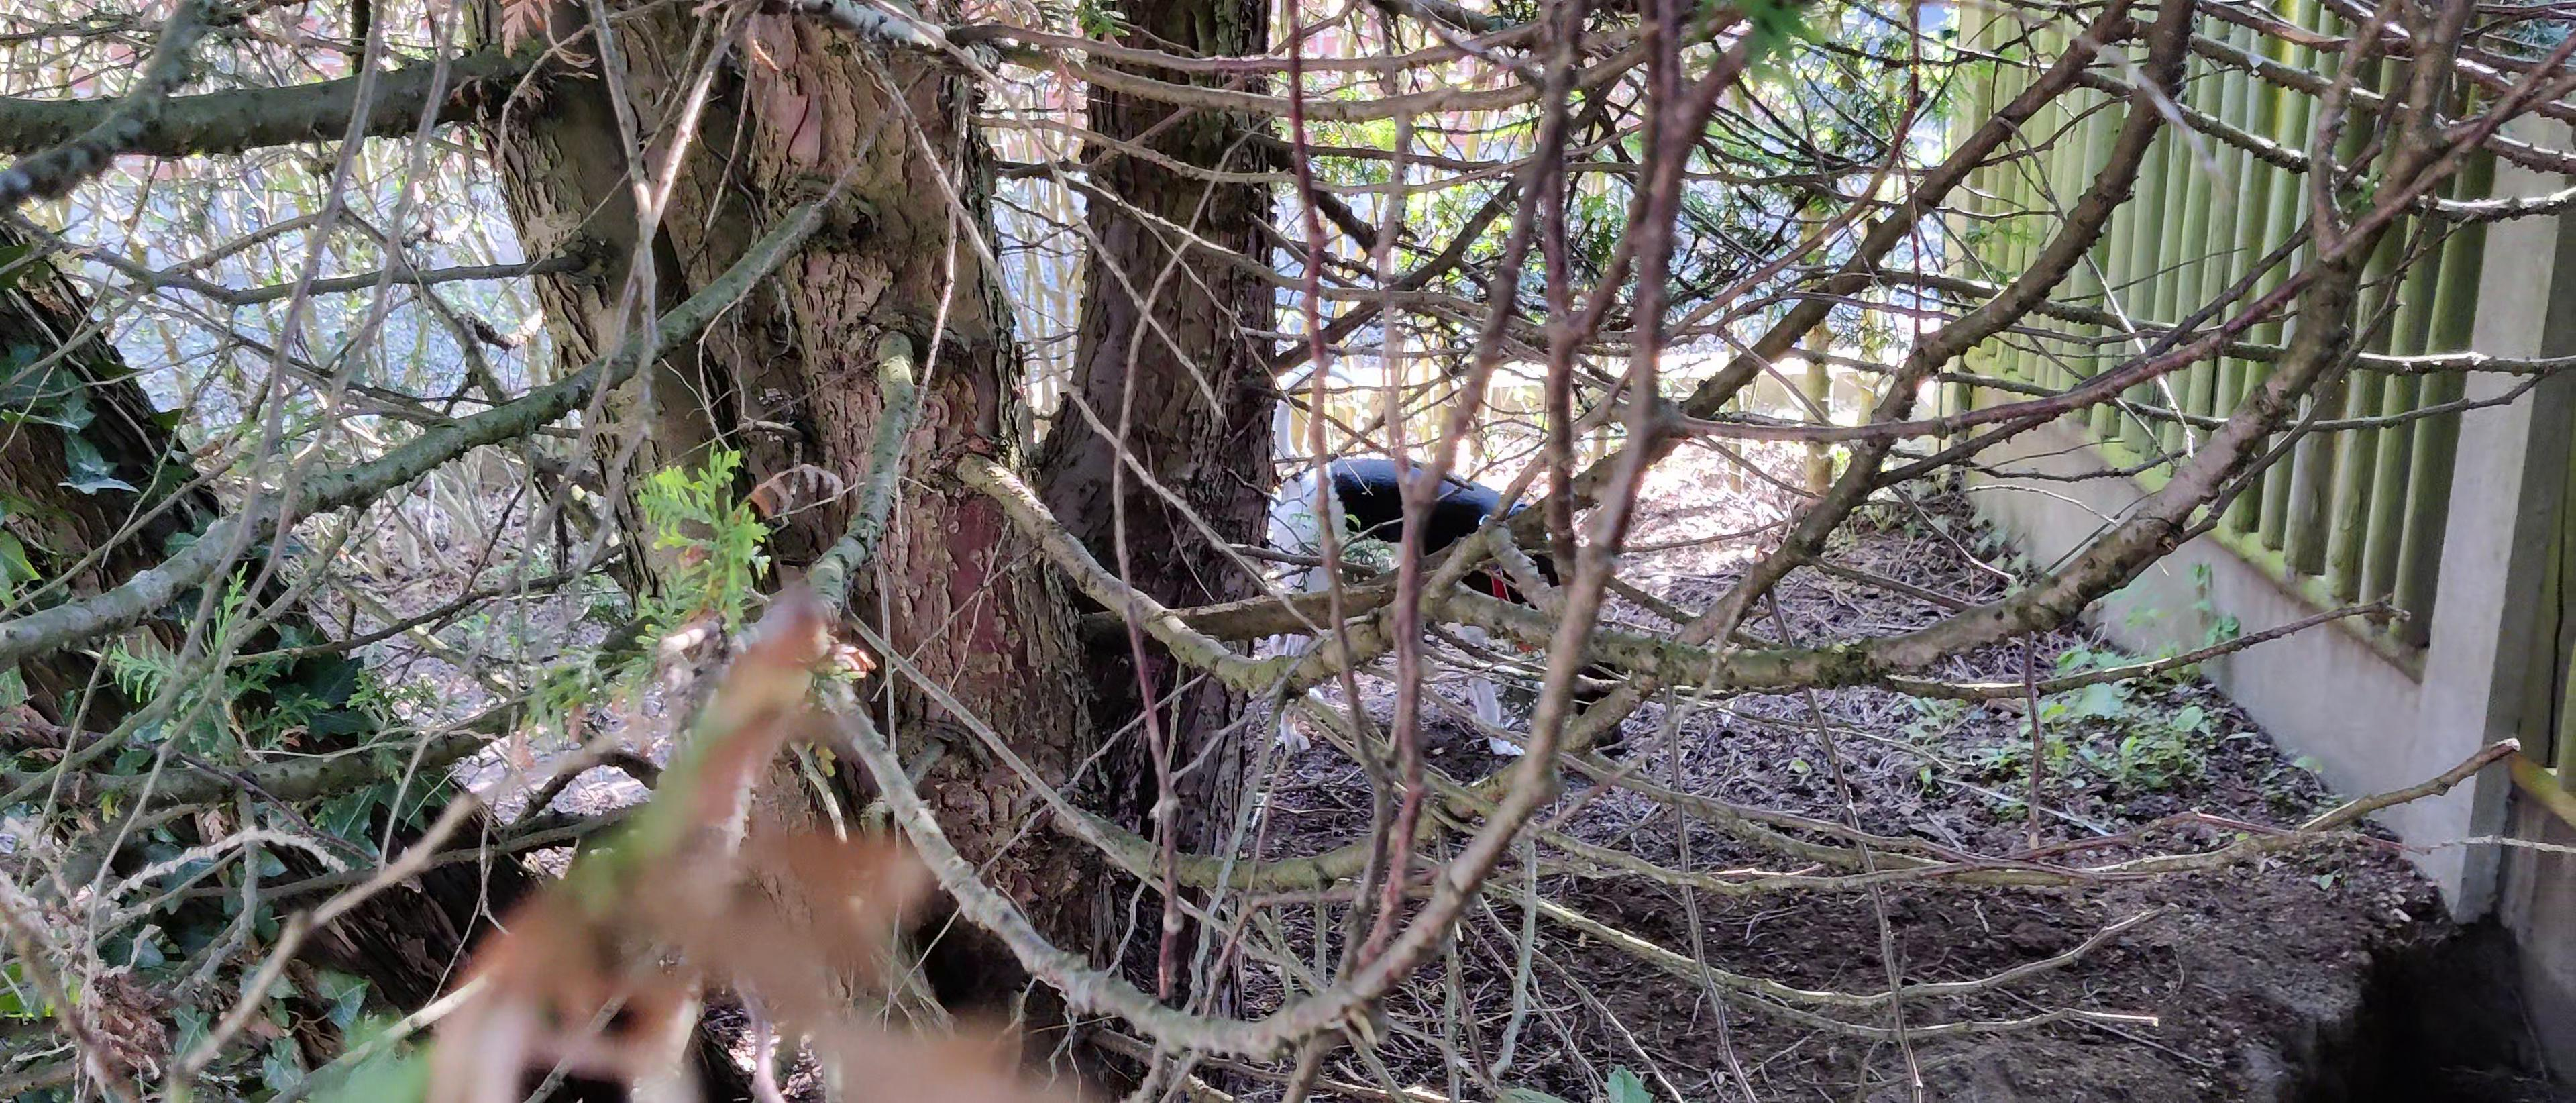Dog: (1232, 317, 1663, 799)
